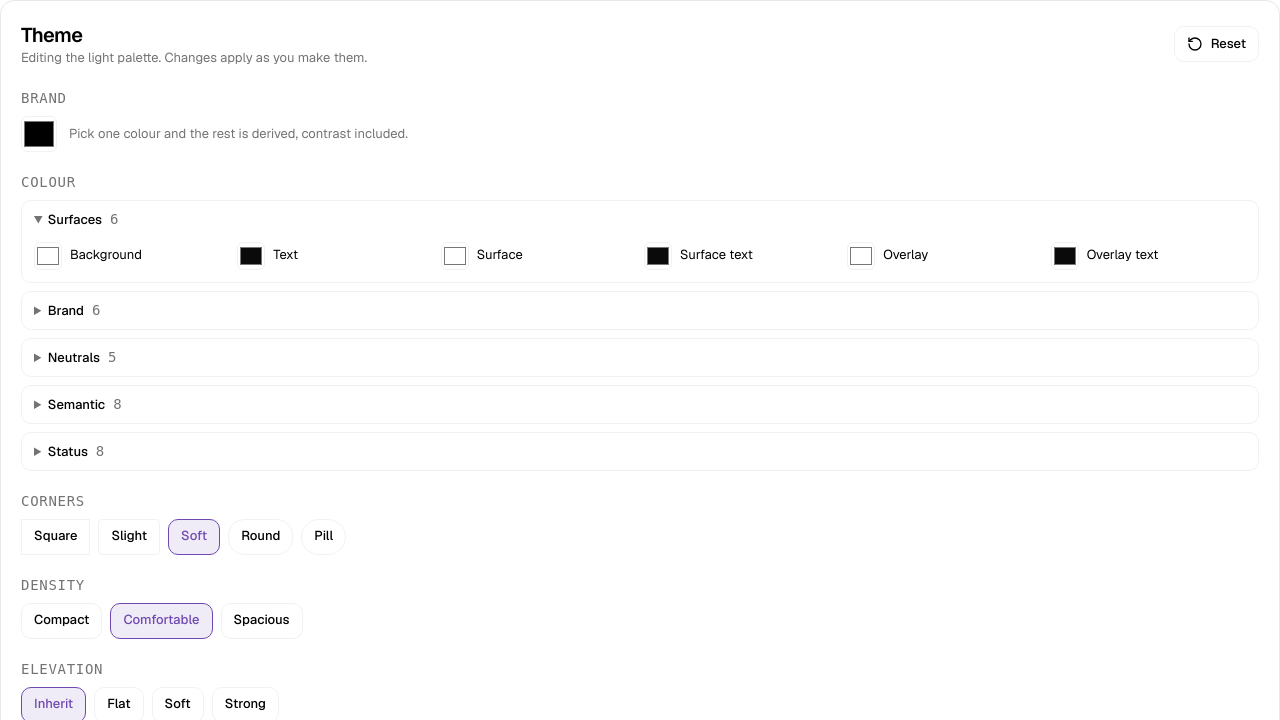
ThemeEditor › flags the failures as soon as a colour makes the palette unreadable
In the colour field labelled "Text": (251, 256) [237,242,265,270], type "#fefefe"
(page scrolled)
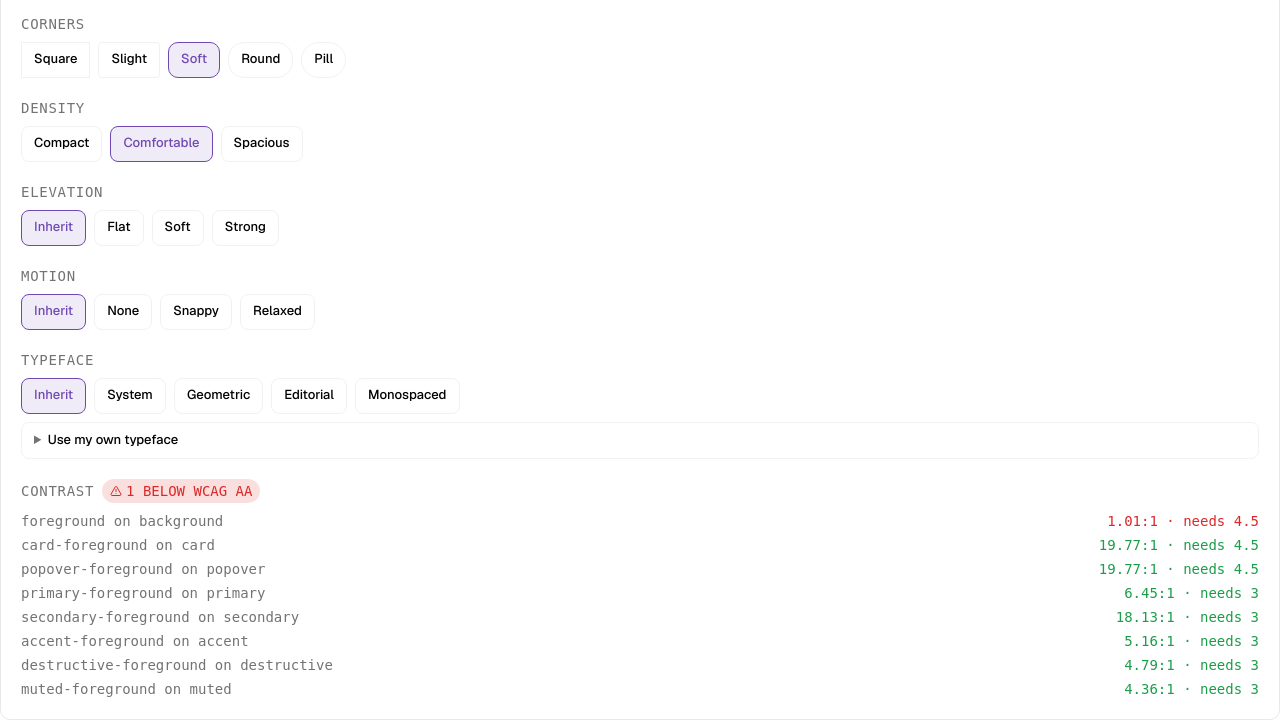
Check: the text "1 below WCAG AA" is shown, box [102,479,260,503]
